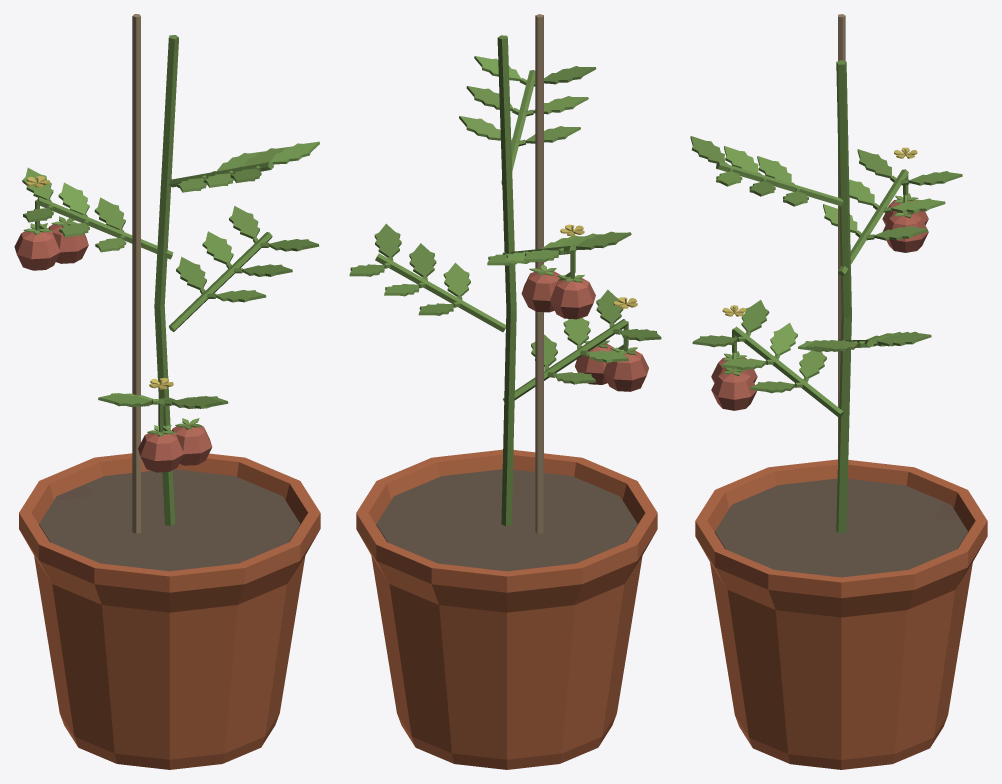
The model's file is tomato.glb.
3 renders of one model, left to right at view 1: azimuth 30°, elevation 25°; view 2: azimuth 150°, elevation 25°; view 3: azimuth 270°, elevation 25°, orthographic. The views are drawn at different scales.
Parts seen in each view (by area): view 1: tomato/review-terra-vessel, tomato/review-rooted-soil, tomato/stem-001, tomato/review-tomato-stake, tomato/tomato-fruit-017, tomato/tomato-fruit-065, tomato/tomato-fruit-024, tomato/petiole-037, tomato/petiole-050, tomato/tomato-fruit-072, tomato/leaf-041, tomato/leaf-045 (+4 smaller); view 2: tomato/review-terra-vessel, tomato/review-rooted-soil, tomato/stem-001, tomato/review-tomato-stake, tomato/tomato-fruit-065, tomato/tomato-fruit-017, tomato/petiole-037, tomato/tomato-fruit-072, tomato/petiole-002, tomato/petiole-085, tomato/tomato-fruit-024, tomato/leaf-047 (+7 smaller); view 3: tomato/review-terra-vessel, tomato/review-rooted-soil, tomato/stem-001, tomato/tomato-fruit-024, tomato/petiole-002, tomato/tomato-fruit-072, tomato/review-tomato-stake, tomato/petiole-085, tomato/petiole-050, tomato/leaf-008, tomato/leaf-012, tomato/leaf-062 (+4 smaller).
Boxes of the visible parts, bbox=[...] form: tomato/review-terra-vessel: bbox=[19, 453, 320, 769]; tomato/review-rooted-soil: bbox=[39, 469, 300, 571]; tomato/stem-001: bbox=[154, 35, 178, 525]; tomato/review-tomato-stake: bbox=[132, 14, 140, 533]; tomato/tomato-fruit-017: bbox=[138, 433, 183, 472]; tomato/tomato-fruit-065: bbox=[14, 231, 60, 270]; tomato/tomato-fruit-024: bbox=[172, 423, 212, 465]; tomato/petiole-037: bbox=[168, 232, 272, 331]; tomato/petiole-050: bbox=[37, 197, 173, 259]; tomato/tomato-fruit-072: bbox=[48, 222, 88, 263]; tomato/leaf-041: bbox=[176, 256, 206, 289]; tomato/leaf-045: bbox=[202, 231, 233, 264]; tomato/review-terra-vessel: bbox=[356, 449, 657, 769]; tomato/review-rooted-soil: bbox=[376, 469, 637, 571]; tomato/stem-001: bbox=[497, 35, 516, 526]; tomato/review-tomato-stake: bbox=[535, 14, 543, 533]; tomato/tomato-fruit-065: bbox=[550, 278, 595, 319]; tomato/tomato-fruit-017: bbox=[603, 350, 648, 391]; tomato/petiole-037: bbox=[375, 253, 505, 332]; tomato/tomato-fruit-072: bbox=[521, 271, 560, 312]; tomato/petiole-002: bbox=[503, 319, 627, 401]; tomato/petiole-085: bbox=[501, 70, 535, 184]; tomato/tomato-fruit-024: bbox=[575, 344, 613, 384]; tomato/leaf-047: bbox=[374, 223, 401, 257]; tomato/review-terra-vessel: bbox=[695, 459, 987, 769]; tomato/review-rooted-soil: bbox=[714, 478, 967, 577]; tomato/stem-001: bbox=[836, 60, 851, 533]; tomato/tomato-fruit-024: bbox=[711, 370, 756, 410]; tomato/petiole-002: bbox=[732, 326, 843, 417]; tomato/tomato-fruit-072: bbox=[882, 212, 928, 252]; tomato/review-tomato-stake: bbox=[838, 14, 845, 456]; tomato/petiole-085: bbox=[716, 162, 843, 206]; tomato/petiole-050: bbox=[838, 169, 908, 276]; tomato/leaf-008: bbox=[770, 323, 797, 355]; tomato/leaf-012: bbox=[741, 300, 769, 332]; tomato/leaf-062: bbox=[857, 149, 891, 178].
Size of the model in its own units: 0.2778 by 0.709 by 0.2745.
Materials: 7 (7 with a texture image).
